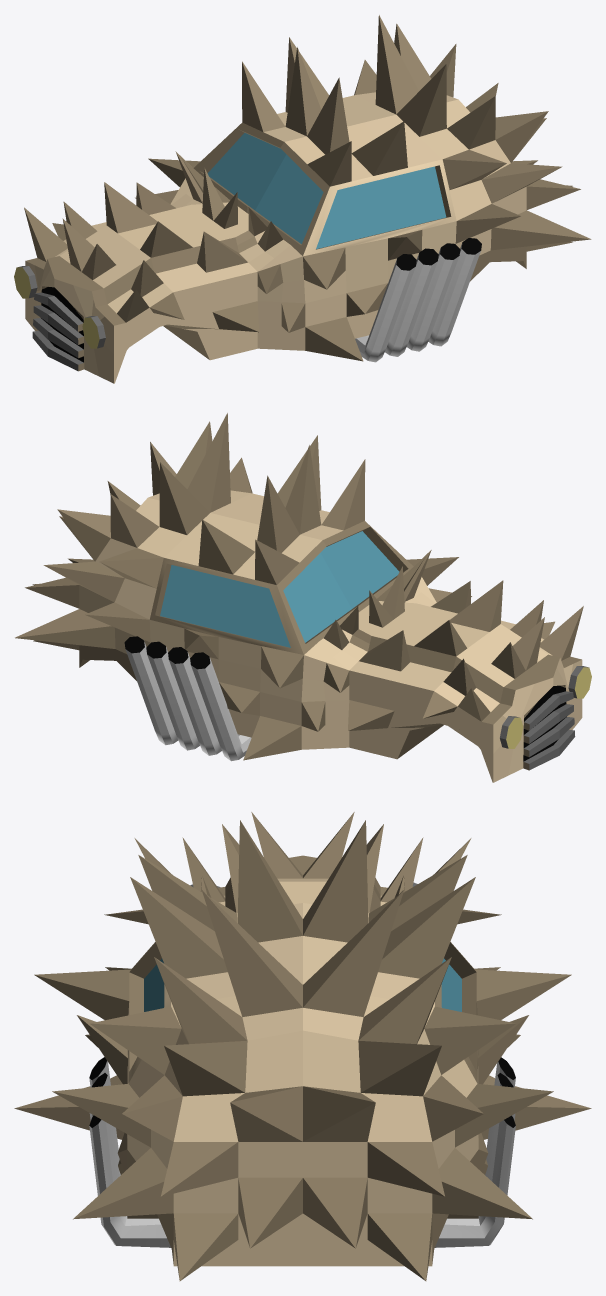
Rendered from Spiky Battle Car.fbx.
3 views of the same model, one above another, from view 1: azimuth 30°, elevation 25°; view 2: azimuth 150°, elevation 25°; view 3: azimuth 270°, elevation 25° (orthographic). The views are drawn at different scales.
Visible parts, largest first — view 1: pCube3, polySurface4, pCylinder2, pCylinder1; view 2: pCube3, polySurface4, pCylinder1, pCylinder2; view 3: pCube3, polySurface4.
Boxes of the visible parts, left/top/right/bottom form: pCube3: left=24, top=15, right=591, bottom=383; polySurface4: left=355, top=238, right=481, bottom=362; pCylinder2: left=82, top=316, right=105, bottom=348; pCylinder1: left=14, top=266, right=37, bottom=298; pCube3: left=15, top=413, right=583, bottom=782; polySurface4: left=124, top=636, right=251, bottom=761; pCylinder1: left=500, top=716, right=523, bottom=748; pCylinder2: left=568, top=666, right=591, bottom=698; pCube3: left=14, top=812, right=591, bottom=1281; polySurface4: left=89, top=1057, right=515, bottom=1247.
Size of the model in its own units: 17.98 by 8.63 by 11.78.
